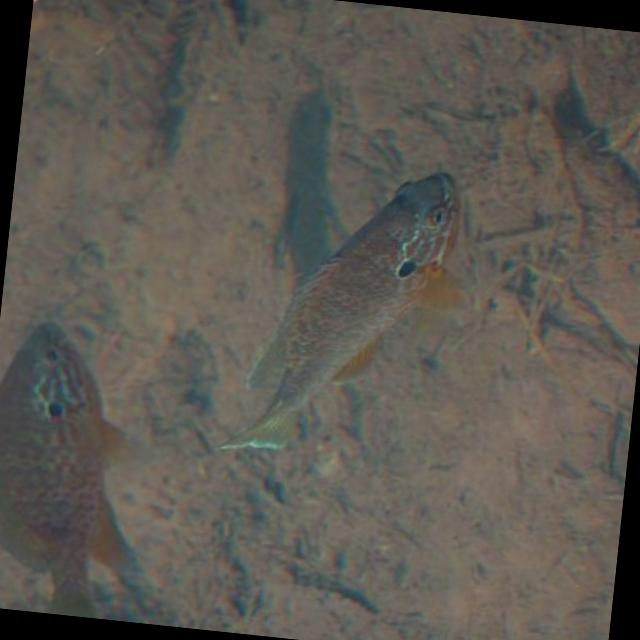Gunes Levregi: (190, 143, 498, 480)
